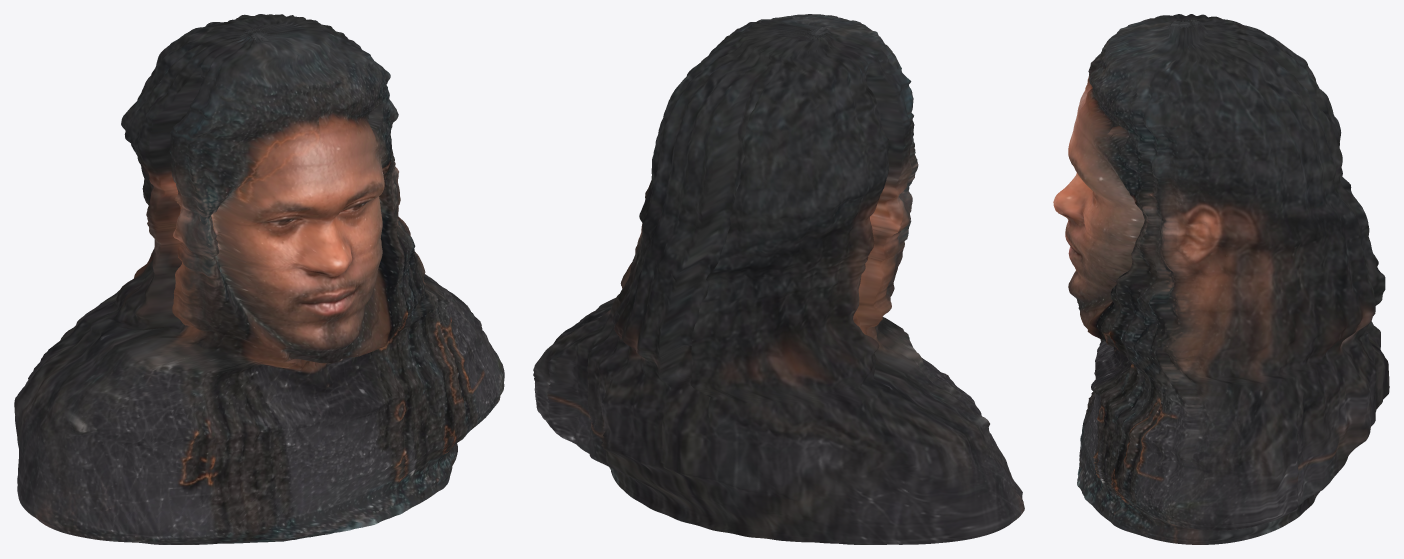
The model's file is optical-cloud.surface.glb.
The picture shows the model from 3 angles, left to right: view 1: azimuth 30°, elevation 25°; view 2: azimuth 150°, elevation 25°; view 3: azimuth 270°, elevation 25°; orthographic projection. The views are drawn at different scales.
Parts seen in each view (by area): view 1: Optical surface; view 2: Optical surface; view 3: Optical surface.
Boxes of the visible parts, left/top/right/bottom form: Optical surface: left=14, top=14, right=504, bottom=544; Optical surface: left=533, top=14, right=1024, bottom=544; Optical surface: left=1053, top=14, right=1389, bottom=544.
Bounding box in the file's own units: 2.32 × 2.17 × 1.52.
Materials: 1 (1 with a texture image).
